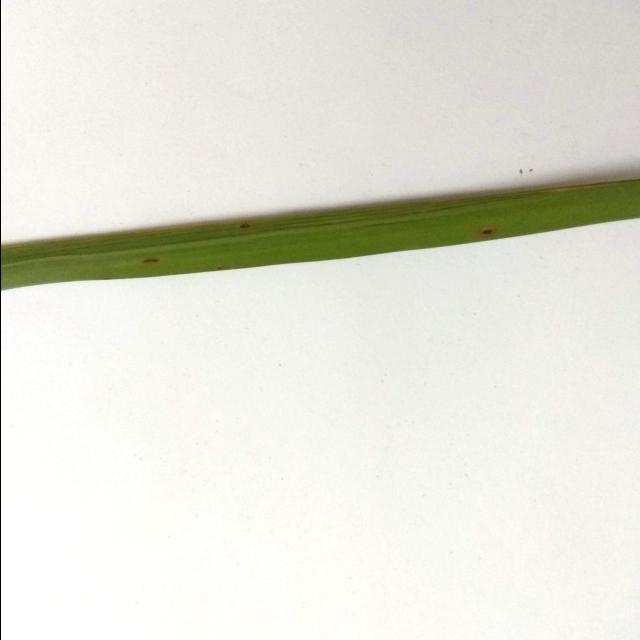Brown spot: (0, 105, 640, 348)
